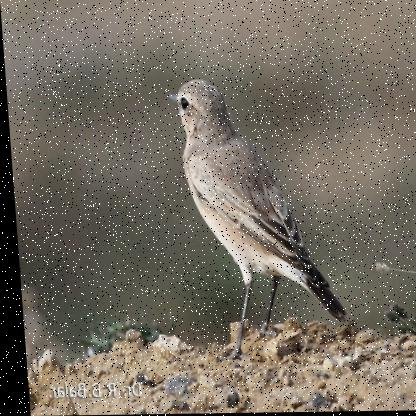Burung: (162, 74, 351, 357)
